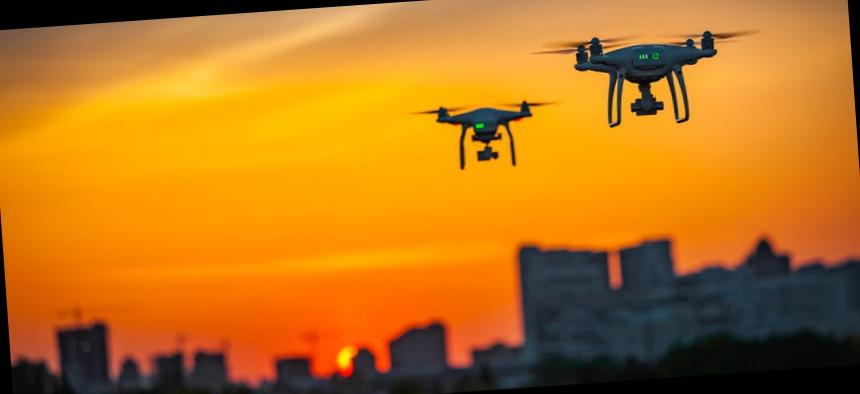drone: (544, 24, 739, 132), (399, 81, 552, 178)
